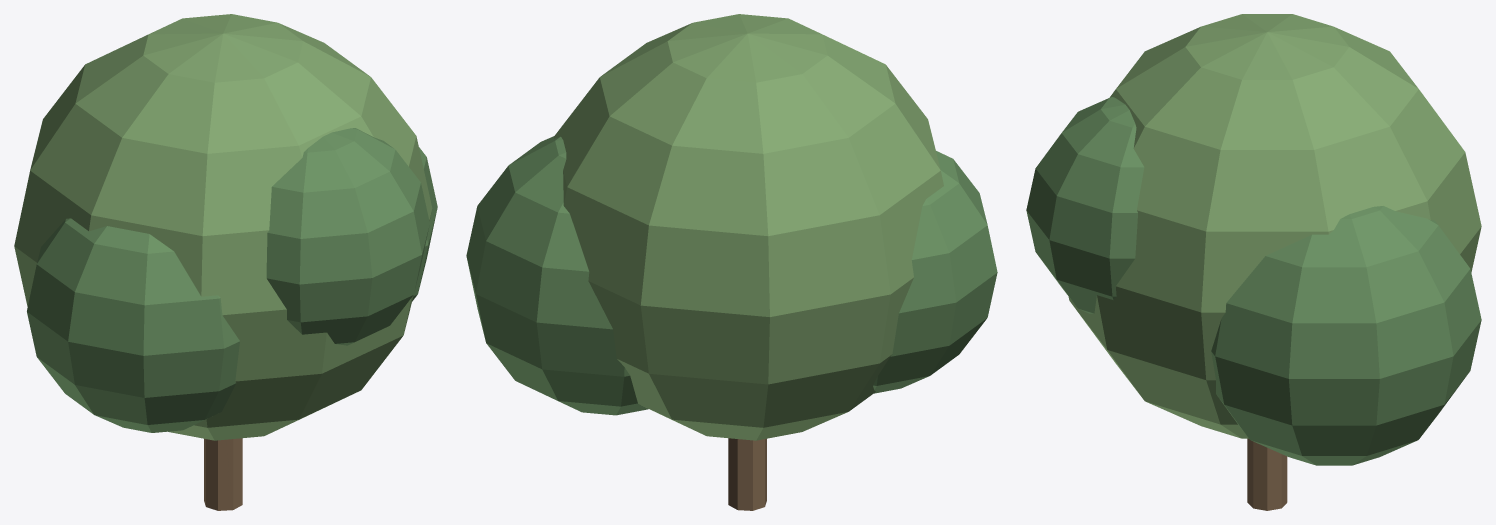
The model's file is planting-shrub.glb.
3 renders of one model, left to right at view 1: azimuth 30°, elevation 25°; view 2: azimuth 150°, elevation 25°; view 3: azimuth 270°, elevation 25°, orthographic.
Parts seen in each view (by area): view 1: Foliage_0, Foliage_2, Foliage_3, Stem, Foliage_1; view 2: Foliage_0, Foliage_1, Foliage_2, Stem; view 3: Foliage_0, Foliage_1, Foliage_3, Stem.
Boxes of the visible parts, x1,y1,x2,y2 form: Foliage_0: (14,14,432,440); Foliage_2: (27,218,239,432); Foliage_3: (266,128,429,345); Stem: (204,438,242,510); Foliage_1: (412,147,437,301); Foliage_0: (554,14,943,440); Foliage_1: (466,136,648,415); Foliage_2: (873,151,997,393); Stem: (728,438,766,510); Foliage_0: (1068,14,1481,438); Foliage_1: (1211,206,1481,465); Foliage_3: (1026,97,1144,313); Stem: (1247,438,1287,510).
Size of the model in its own units: 0.7394 by 0.775 by 0.68.
